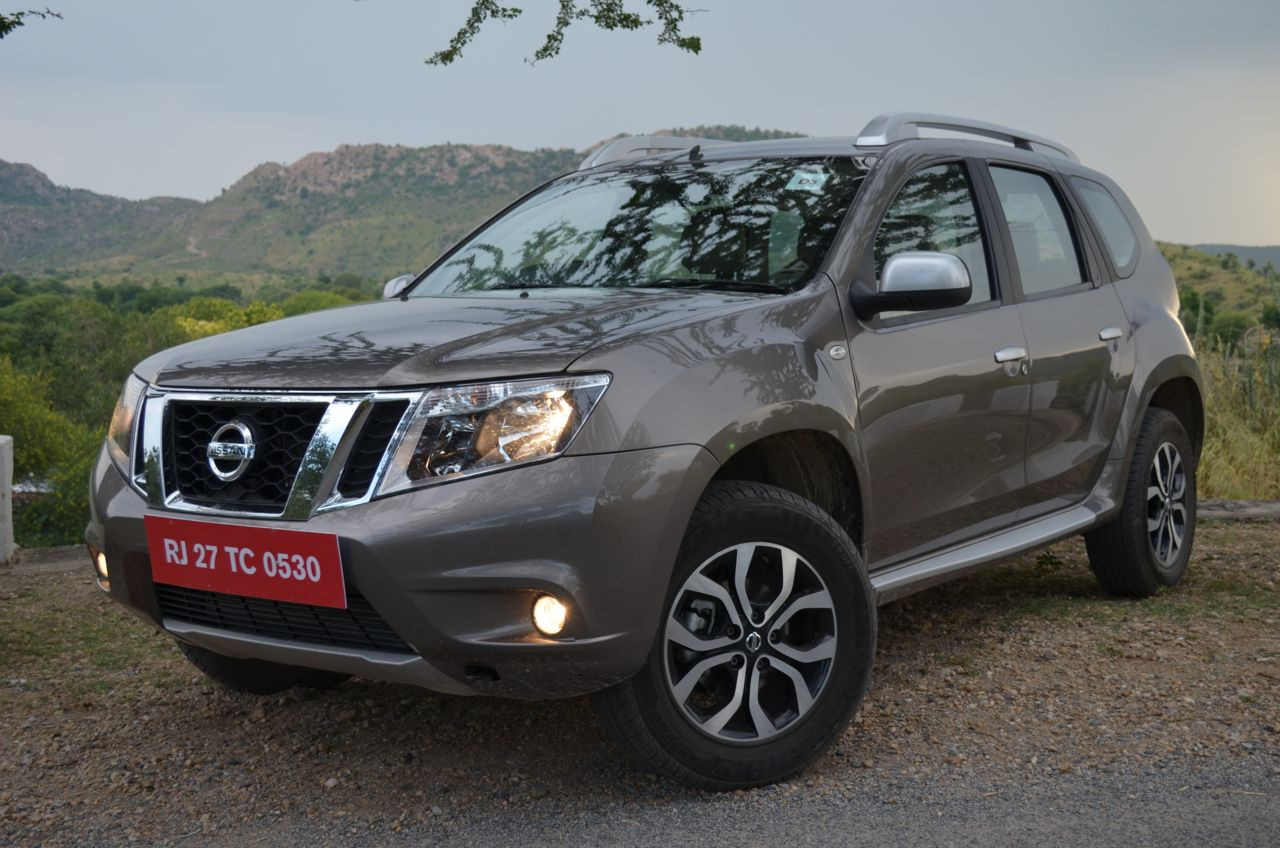number_plate: (138, 506, 357, 617)
